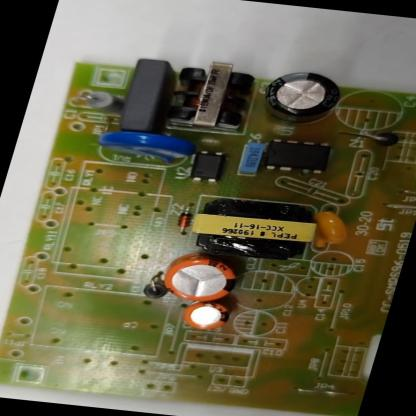Cap1: (156, 252, 243, 305)
Cap2: (180, 300, 233, 333)
Cap3: (256, 68, 345, 130)
MOSFET: (261, 138, 333, 174)
Mov: (94, 127, 192, 163)
Resistor: (80, 90, 128, 114)
Transformer: (182, 197, 322, 265), (167, 59, 258, 131)
